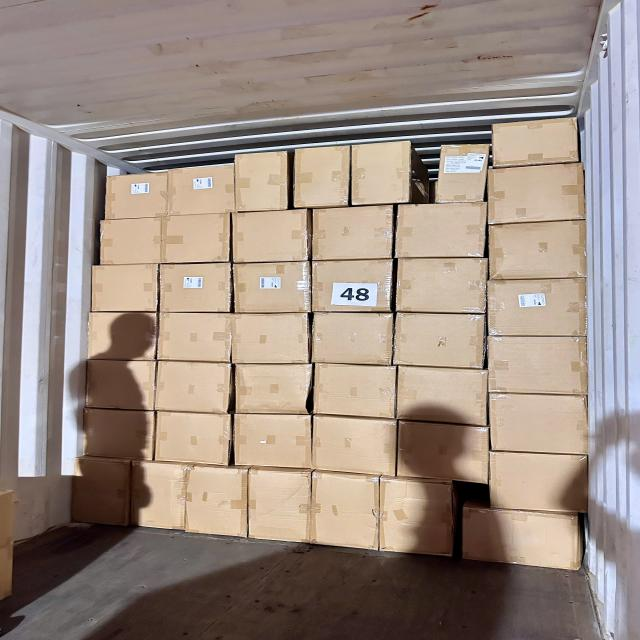Carton: (462, 506, 582, 571), (484, 336, 592, 396), (394, 420, 490, 485), (486, 279, 591, 338), (490, 391, 587, 454), (396, 362, 488, 428), (490, 451, 587, 511), (379, 479, 452, 558), (487, 223, 587, 279), (396, 256, 489, 315), (311, 471, 378, 552), (394, 312, 486, 370), (312, 414, 397, 476), (310, 362, 398, 421), (486, 168, 584, 220), (396, 202, 485, 258), (246, 468, 309, 546), (232, 413, 316, 471), (230, 313, 316, 367), (310, 259, 394, 314), (310, 207, 394, 261), (310, 312, 394, 366), (152, 410, 234, 465), (187, 464, 246, 540), (233, 362, 313, 417), (230, 260, 310, 314), (156, 358, 233, 414), (230, 211, 311, 263), (73, 456, 129, 529), (157, 262, 234, 314), (156, 311, 232, 363), (132, 461, 187, 532), (491, 122, 580, 164), (85, 358, 156, 410), (160, 214, 236, 262), (84, 410, 155, 461), (168, 163, 235, 216), (351, 143, 409, 204), (88, 311, 158, 361), (89, 264, 159, 313), (234, 153, 289, 211), (295, 147, 347, 208), (104, 172, 171, 219), (99, 218, 165, 264), (439, 143, 486, 205)
